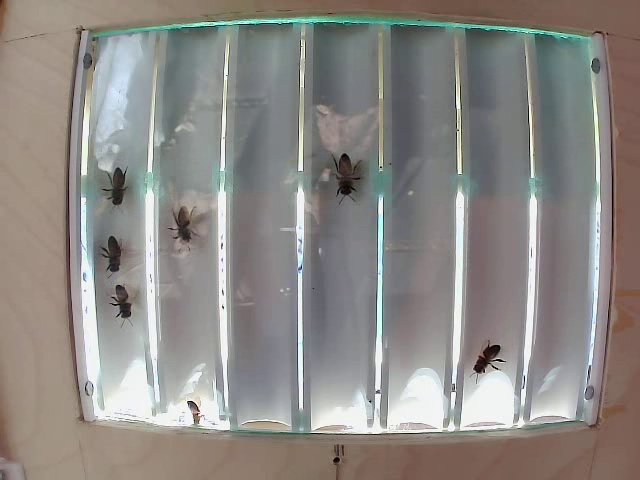bee: (331, 135, 366, 211), (160, 202, 209, 256), (95, 159, 139, 207), (92, 235, 136, 283), (466, 330, 511, 374), (105, 280, 142, 321)
